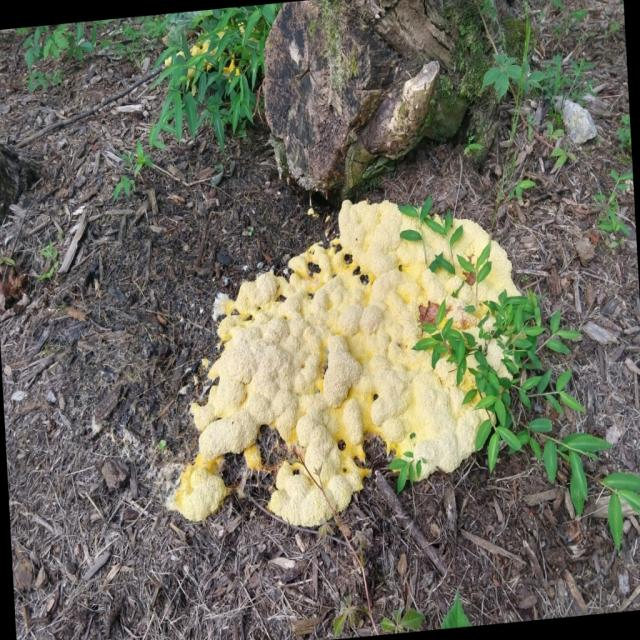Dog_vomit_slime_mold: (160, 178, 542, 540)
